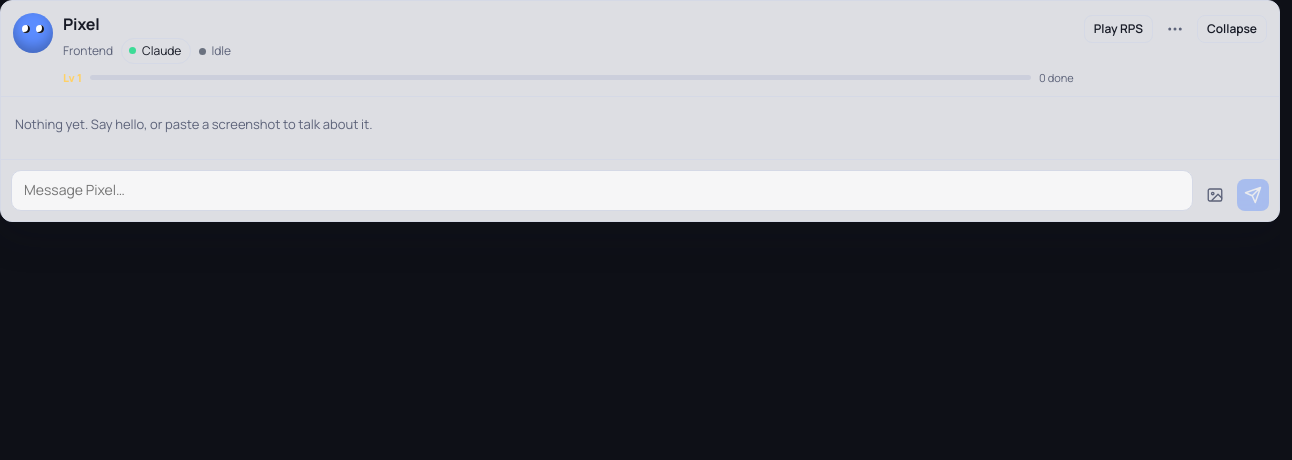
Test case: ChatPanel › collapses and expands without unmounting its hooks
Click the button with aria-label "Collapse chat": (1232, 29) [1197,15,1267,43]
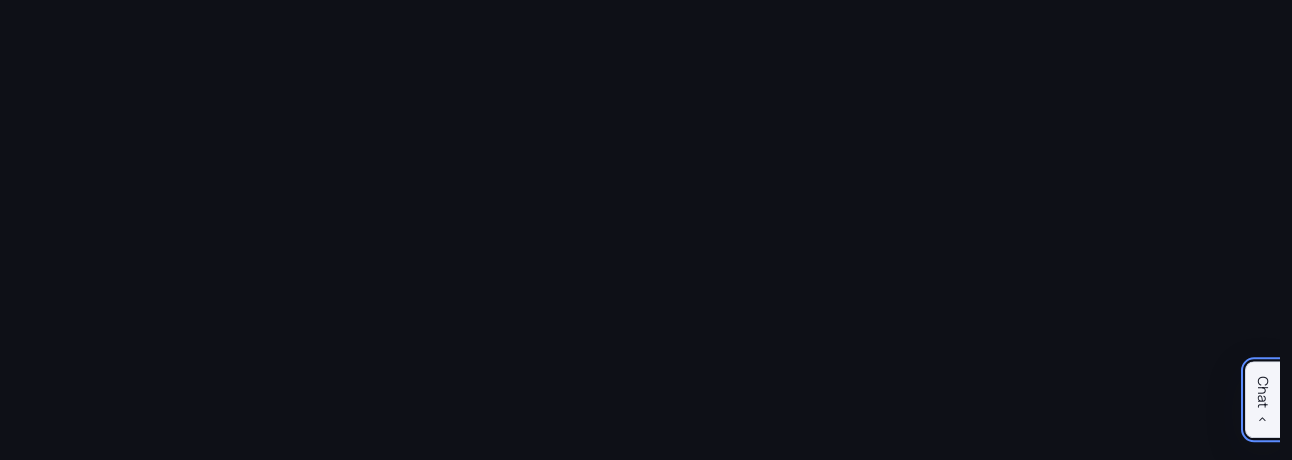
Press Enter
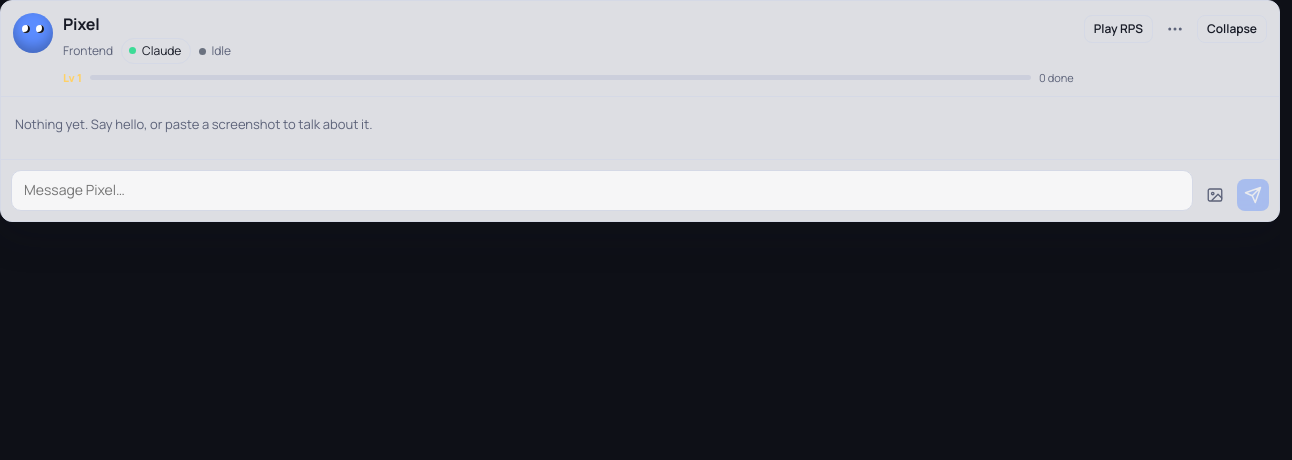
Expected: the heading "Pixel" is shown, [63,13,100,35]
